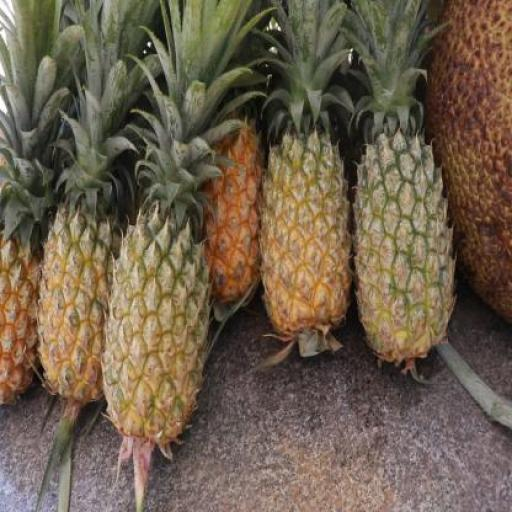------------------------------: (101, 214, 205, 438)
Pineapple - v8 v1: (260, 145, 346, 341), (38, 213, 118, 409), (0, 229, 42, 412)
